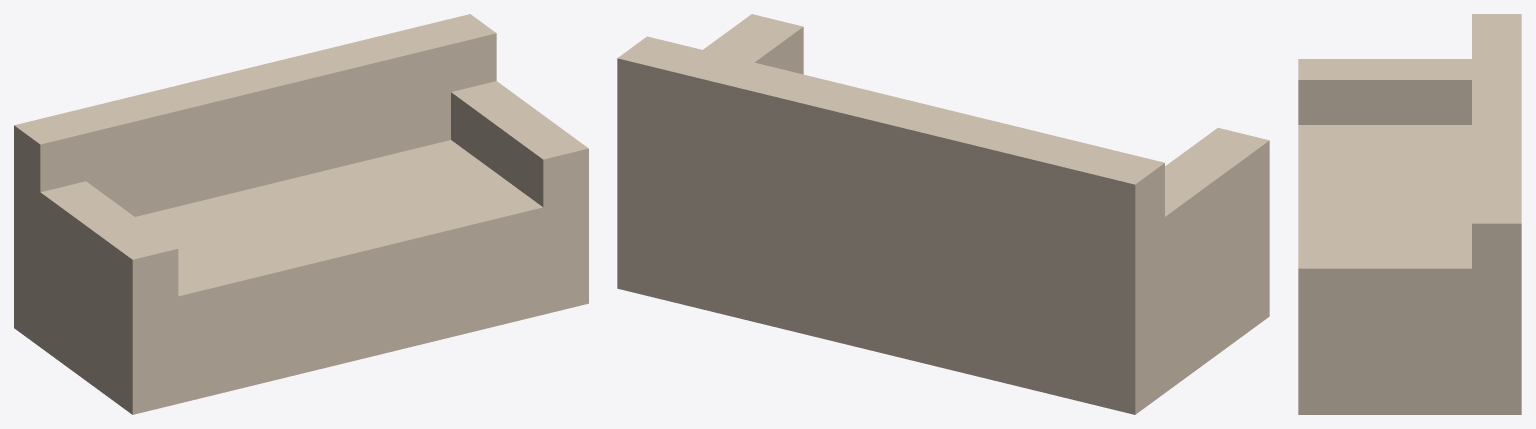
Rendered from sofa.glb.
3 renders of one model, left to right at view 1: azimuth 30°, elevation 25°; view 2: azimuth 150°, elevation 25°; view 3: azimuth 270°, elevation 25°, orthographic. The views are drawn at different scales.
Size of the model in its own units: 2 by 0.85 by 0.9.
